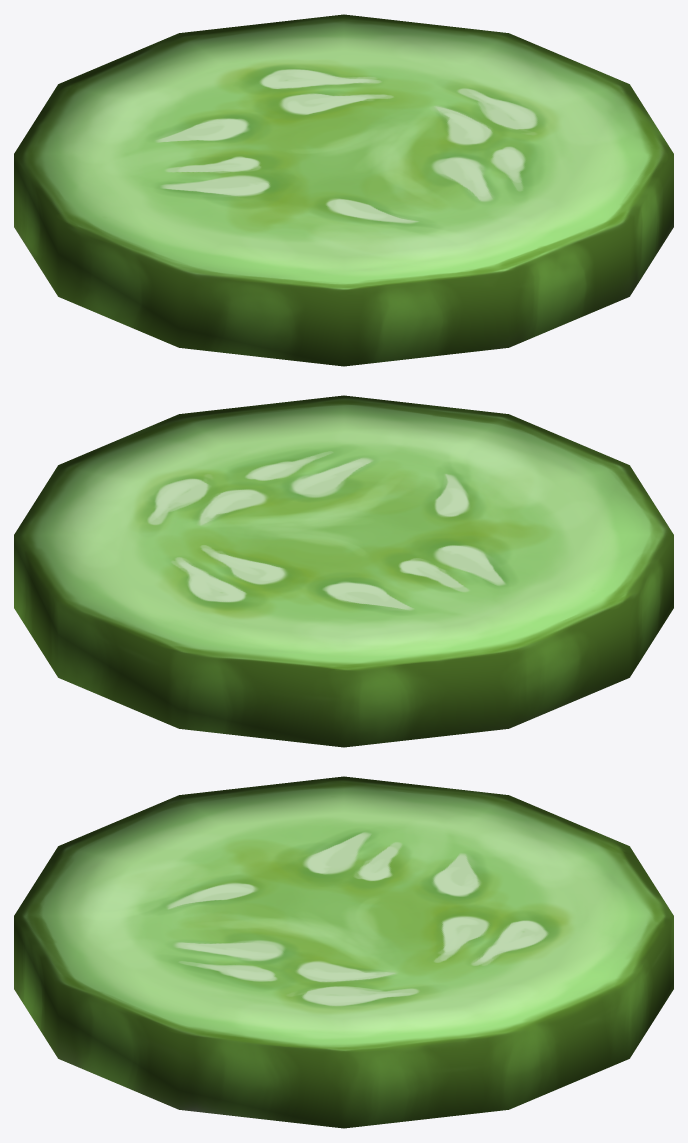
The model's file is cucumber.fbx.
3 views of the same model, one above another, from view 1: azimuth 30°, elevation 25°; view 2: azimuth 150°, elevation 25°; view 3: azimuth 270°, elevation 25° (orthographic).
Visible parts, largest first — view 1: cucumber; view 2: cucumber; view 3: cucumber.
Boxes of the visible parts, x1,y1,x2,y2 form: cucumber: (14,14,673,366); cucumber: (14,395,673,747); cucumber: (14,776,673,1128).
Bounding box in the file's own units: 19.09 × 2.33 × 19.09.
